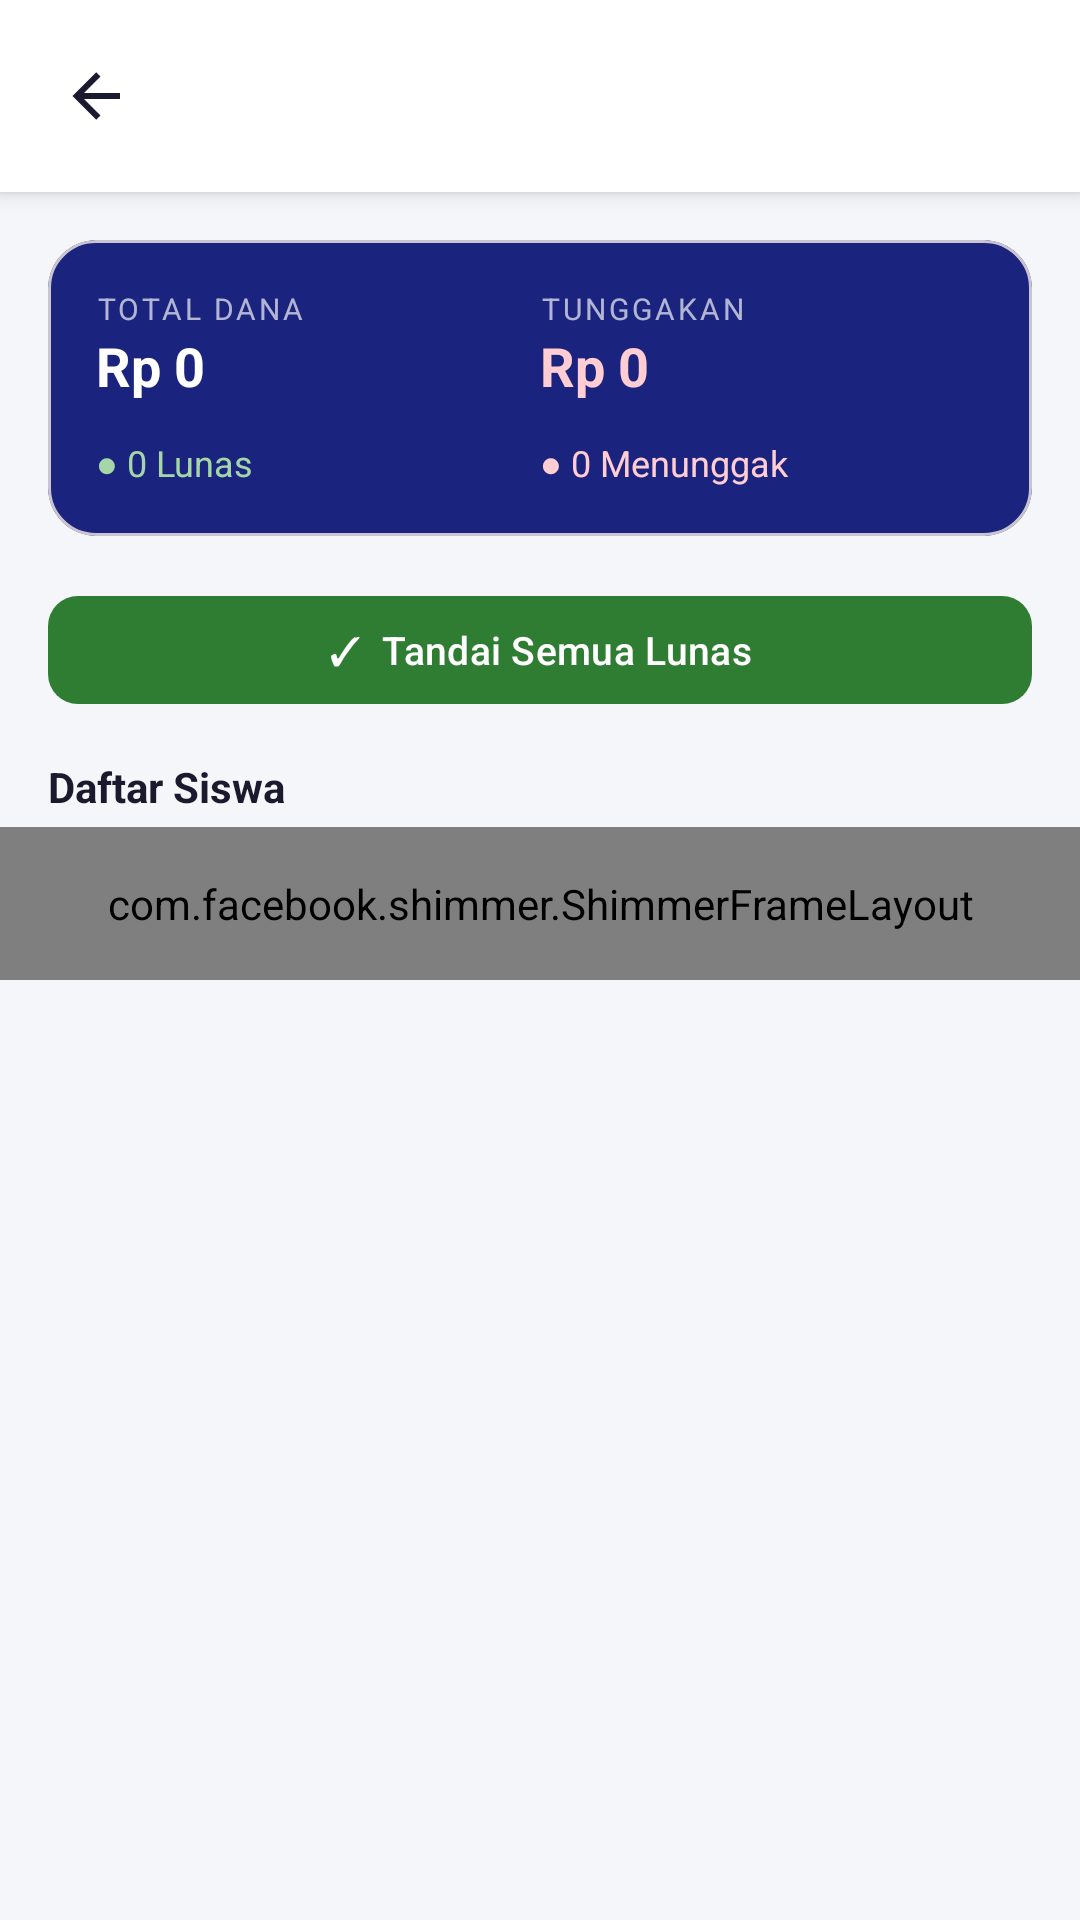

Screen size 1080 × 1920. Icon name, then its box in pixels as (x1=x1, y1=y1, x2=x2, y2=y2):
back: (x1=72, y1=72, x2=120, y2=120)
